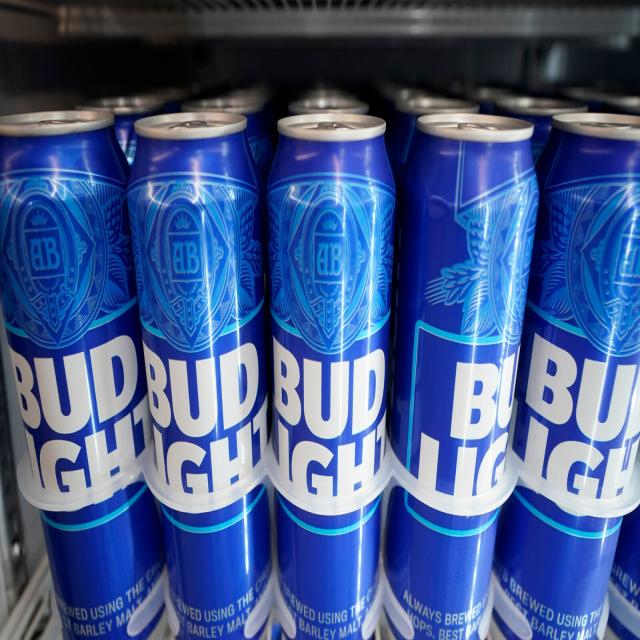can: (0, 109, 166, 640), (383, 116, 538, 640), (127, 107, 274, 640), (493, 121, 640, 640), (269, 110, 396, 640)
